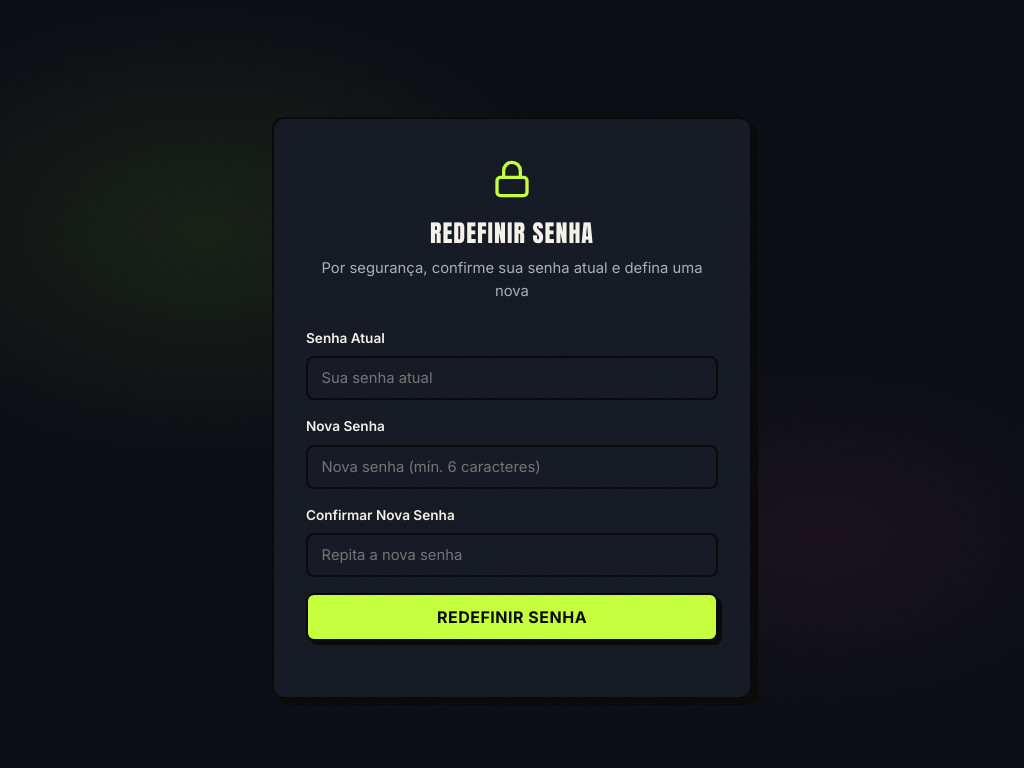
Test case: ResetPasswordPage › shows error when new passwords do not match
Type "currentPass" into the password field labelled "Senha Atual" at [512, 378], box [306,356,718,400]
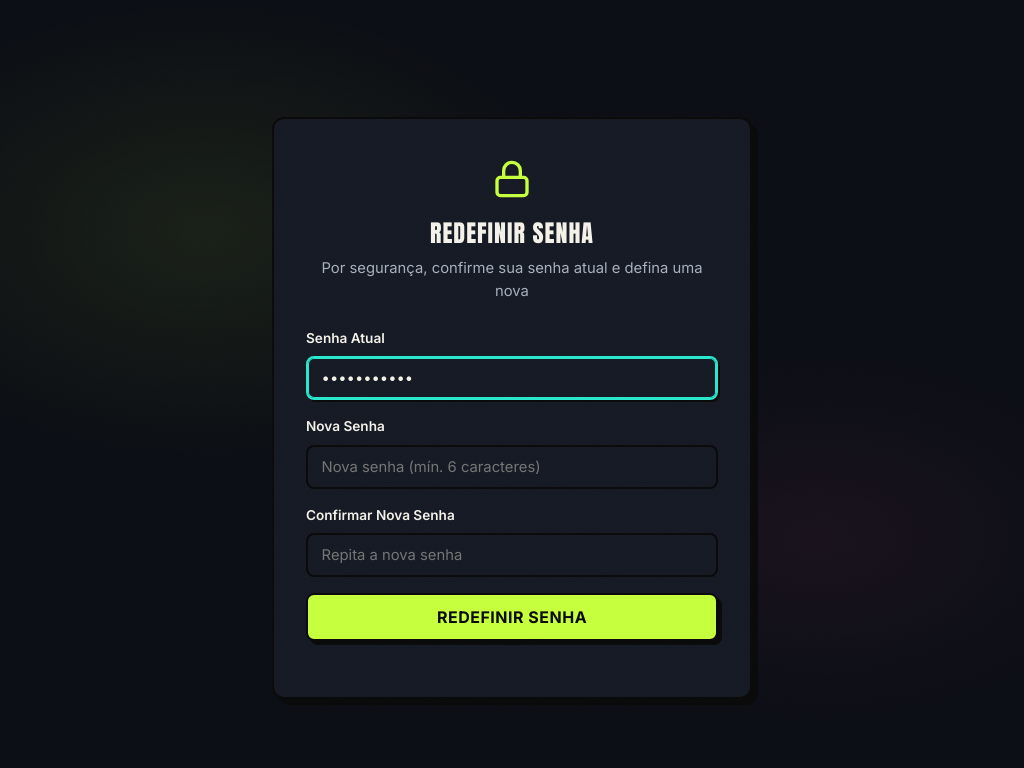
Type "newPass123" into the password field labelled "Nova Senha" at [512, 467], box [306,444,718,489]
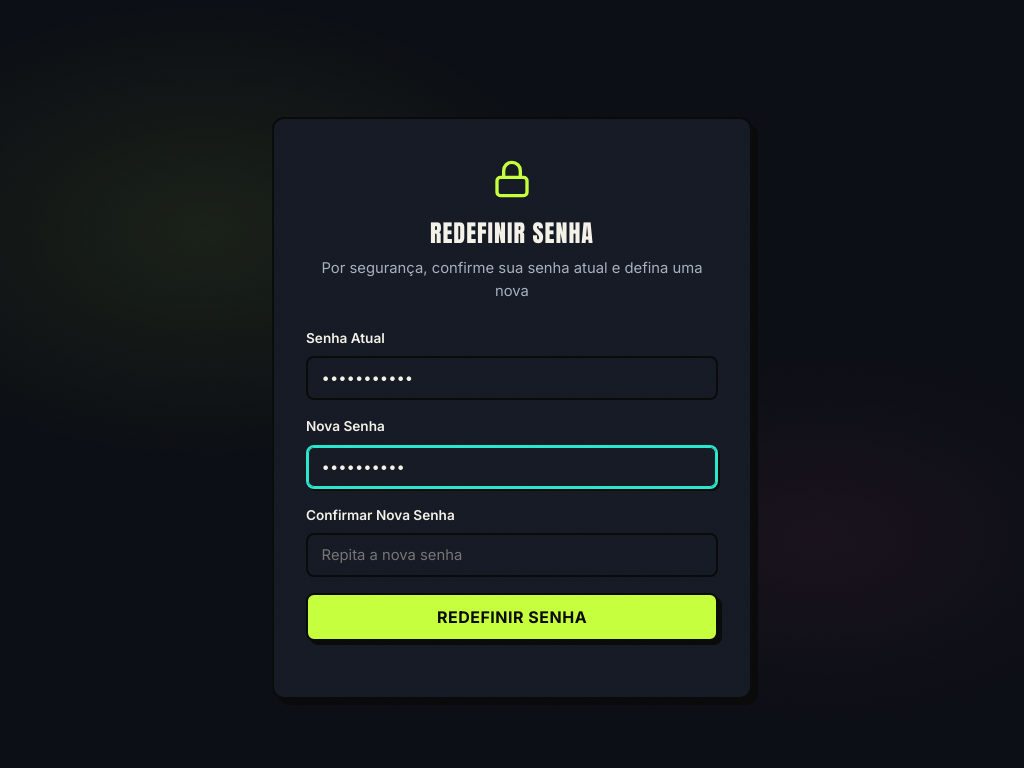
Type "differentPass" into the password field labelled "Confirmar Nova Senha" at [512, 555], box [306,533,718,578]
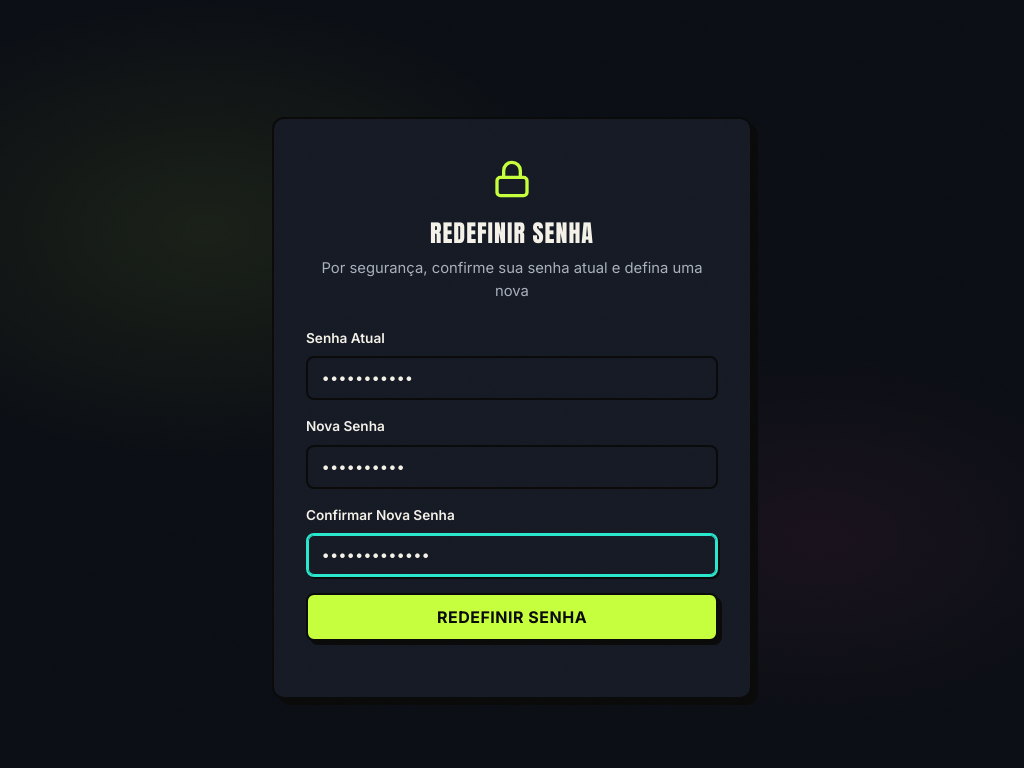
Click the button "Redefinir Senha" at [512, 617], box [306,593,718,641]
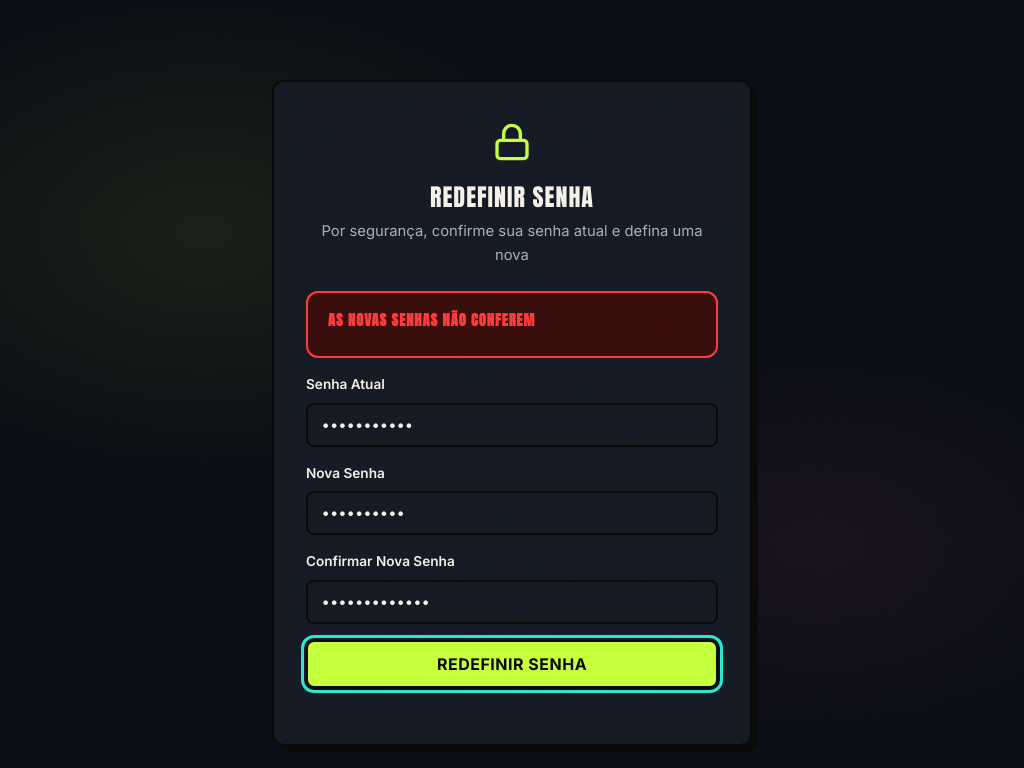
Expected: the text "As novas senhas não conferem" is shown, [328,309,535,331]
